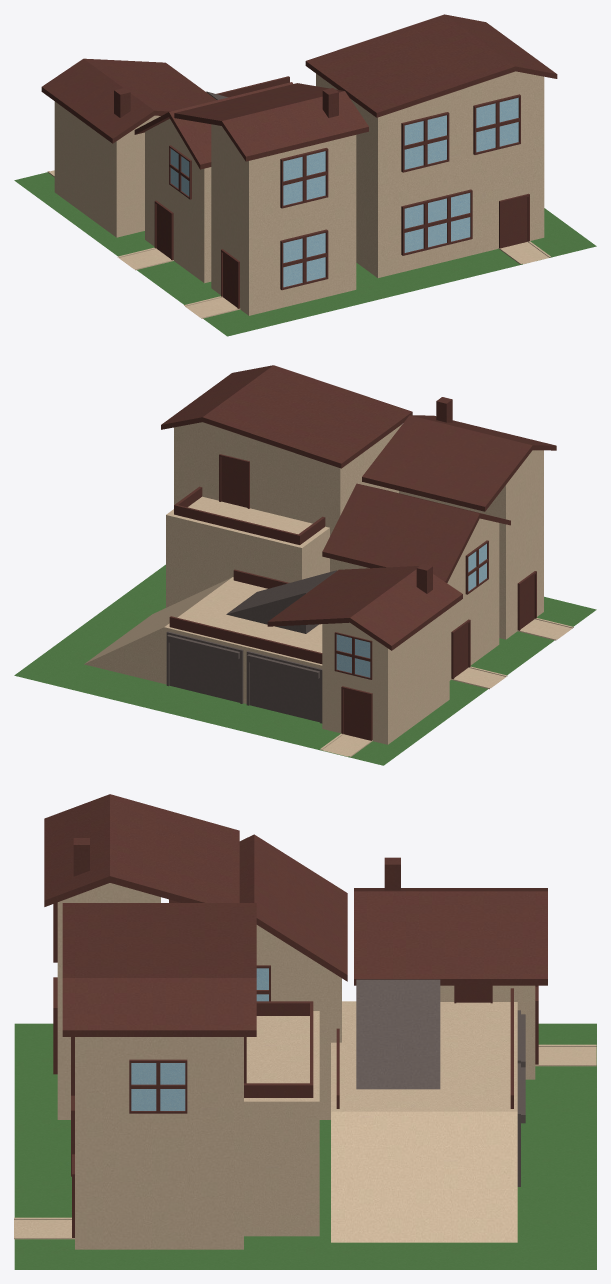
File: house2.obj
3 renders of one model, top to bottom at view 1: azimuth 30°, elevation 25°; view 2: azimuth 150°, elevation 25°; view 3: azimuth 270°, elevation 25°, orthographic. The views are drawn at different scales.
Visible parts, largest first — view 1: House.001_Plane.006, Plane.008_Plane.013, Plane.009_Plane.016, Plane.002_Plane.009, Cube.006_Cube.007, Cube.011_Cube.015, Cube.010_Cube.014, Cube.007_Cube.009, Cube.008_Cube.011, Cube.009_Cube.012, Cube.012_Cube.016; view 2: House.001_Plane.006, Plane.007_Plane.011, Plane.002_Plane.009, Plane.008_Plane.013, Cube.004_Cube, Cube.015_Cube.020, Plane.009_Plane.016, Cube.012_Cube.016; view 3: House.001_Plane.006, Plane.007_Plane.011, Plane.009_Plane.016, Cube.004_Cube, Plane.002_Plane.009, Plane.008_Plane.013, Cube.014_Cube.018.
Part boxes in pixels (x1,y1,x2,y2): House.001_Plane.006: [41, 14, 557, 318]; Plane.008_Plane.013: [137, 261, 411, 336]; Plane.009_Plane.016: [390, 208, 596, 291]; Plane.002_Plane.009: [14, 172, 154, 256]; Cube.006_Cube.007: [401, 112, 449, 172]; Cube.011_Cube.015: [280, 229, 328, 290]; Cube.010_Cube.014: [280, 148, 328, 208]; Cube.007_Cube.009: [473, 94, 520, 154]; Cube.008_Cube.011: [401, 195, 448, 255]; Cube.009_Cube.012: [426, 189, 472, 249]; Cube.012_Cube.016: [169, 145, 191, 199]; House.001_Plane.006: [84, 365, 573, 757]; Plane.007_Plane.011: [14, 597, 226, 720]; Plane.002_Plane.009: [199, 680, 487, 765]; Plane.008_Plane.013: [470, 596, 596, 675]; Cube.004_Cube: [226, 570, 336, 633]; Cube.015_Cube.020: [334, 632, 372, 679]; Plane.009_Plane.016: [121, 564, 165, 608]; Cube.012_Cube.016: [465, 540, 488, 594]; House.001_Plane.006: [14, 794, 596, 1249]; Plane.007_Plane.011: [306, 1147, 596, 1269]; Plane.009_Plane.016: [14, 1147, 305, 1269]; Cube.004_Cube: [356, 979, 440, 1089]; Plane.002_Plane.009: [319, 1023, 596, 1146]; Plane.008_Plane.013: [14, 1023, 70, 1146]; Cube.014_Cube.018: [129, 1059, 187, 1113].
Bounding box in the file's own units: 40.16 × 21.42 × 40.05.
